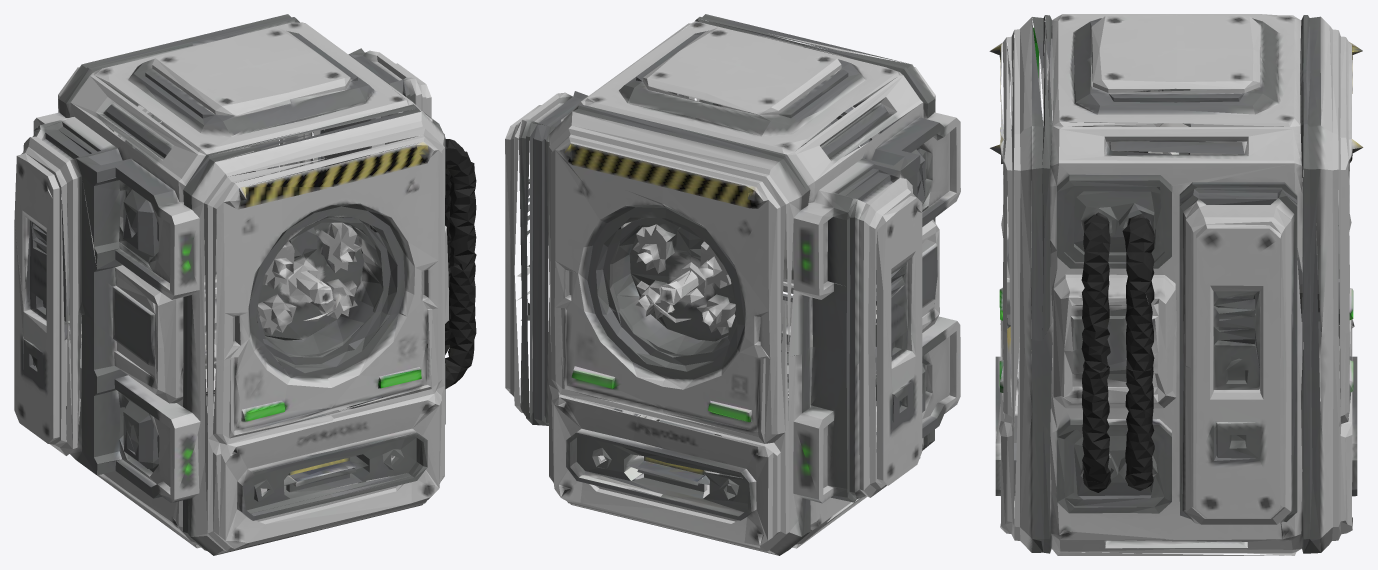
File: Waste Management - Recycling Unit1.glb
3 renders of one model, left to right at view 1: azimuth 30°, elevation 25°; view 2: azimuth 150°, elevation 25°; view 3: azimuth 270°, elevation 25°, orthographic. The views are drawn at different scales.
Parts seen in each view (by area): view 1: tripo_node_7215031f-c2b3-4ba1-a479-206a393f2e89; view 2: tripo_node_7215031f-c2b3-4ba1-a479-206a393f2e89; view 3: tripo_node_7215031f-c2b3-4ba1-a479-206a393f2e89.
Boxes of the visible parts, left/top/right/bottom form: tripo_node_7215031f-c2b3-4ba1-a479-206a393f2e89: left=14, top=14, right=476, bottom=555; tripo_node_7215031f-c2b3-4ba1-a479-206a393f2e89: left=505, top=14, right=960, bottom=555; tripo_node_7215031f-c2b3-4ba1-a479-206a393f2e89: left=989, top=14, right=1363, bottom=555.
Bounding box in the file's own units: 0.9573 × 1 × 0.7541.
1 material, 1 textured.
